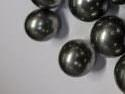ironball: (54, 38, 98, 80), (90, 16, 124, 57), (24, 10, 62, 40), (68, 0, 109, 18), (25, 0, 67, 15), (110, 50, 124, 93), (101, 0, 124, 4)
